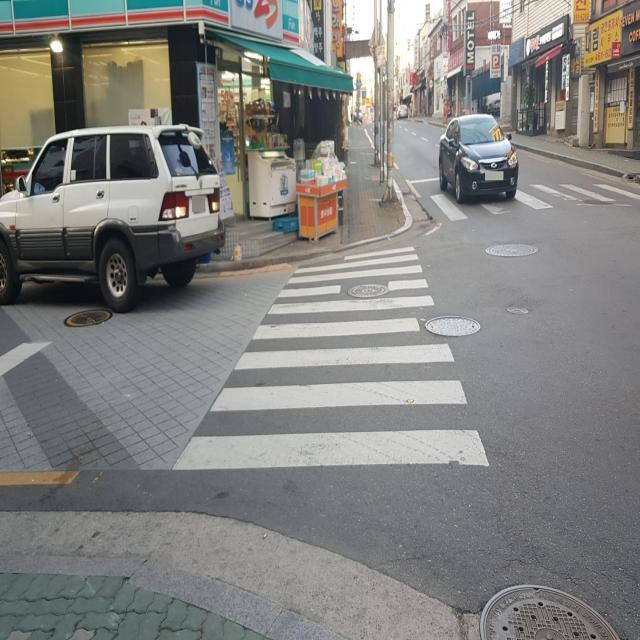횡단보도: (169, 243, 492, 474), (424, 182, 640, 222)
